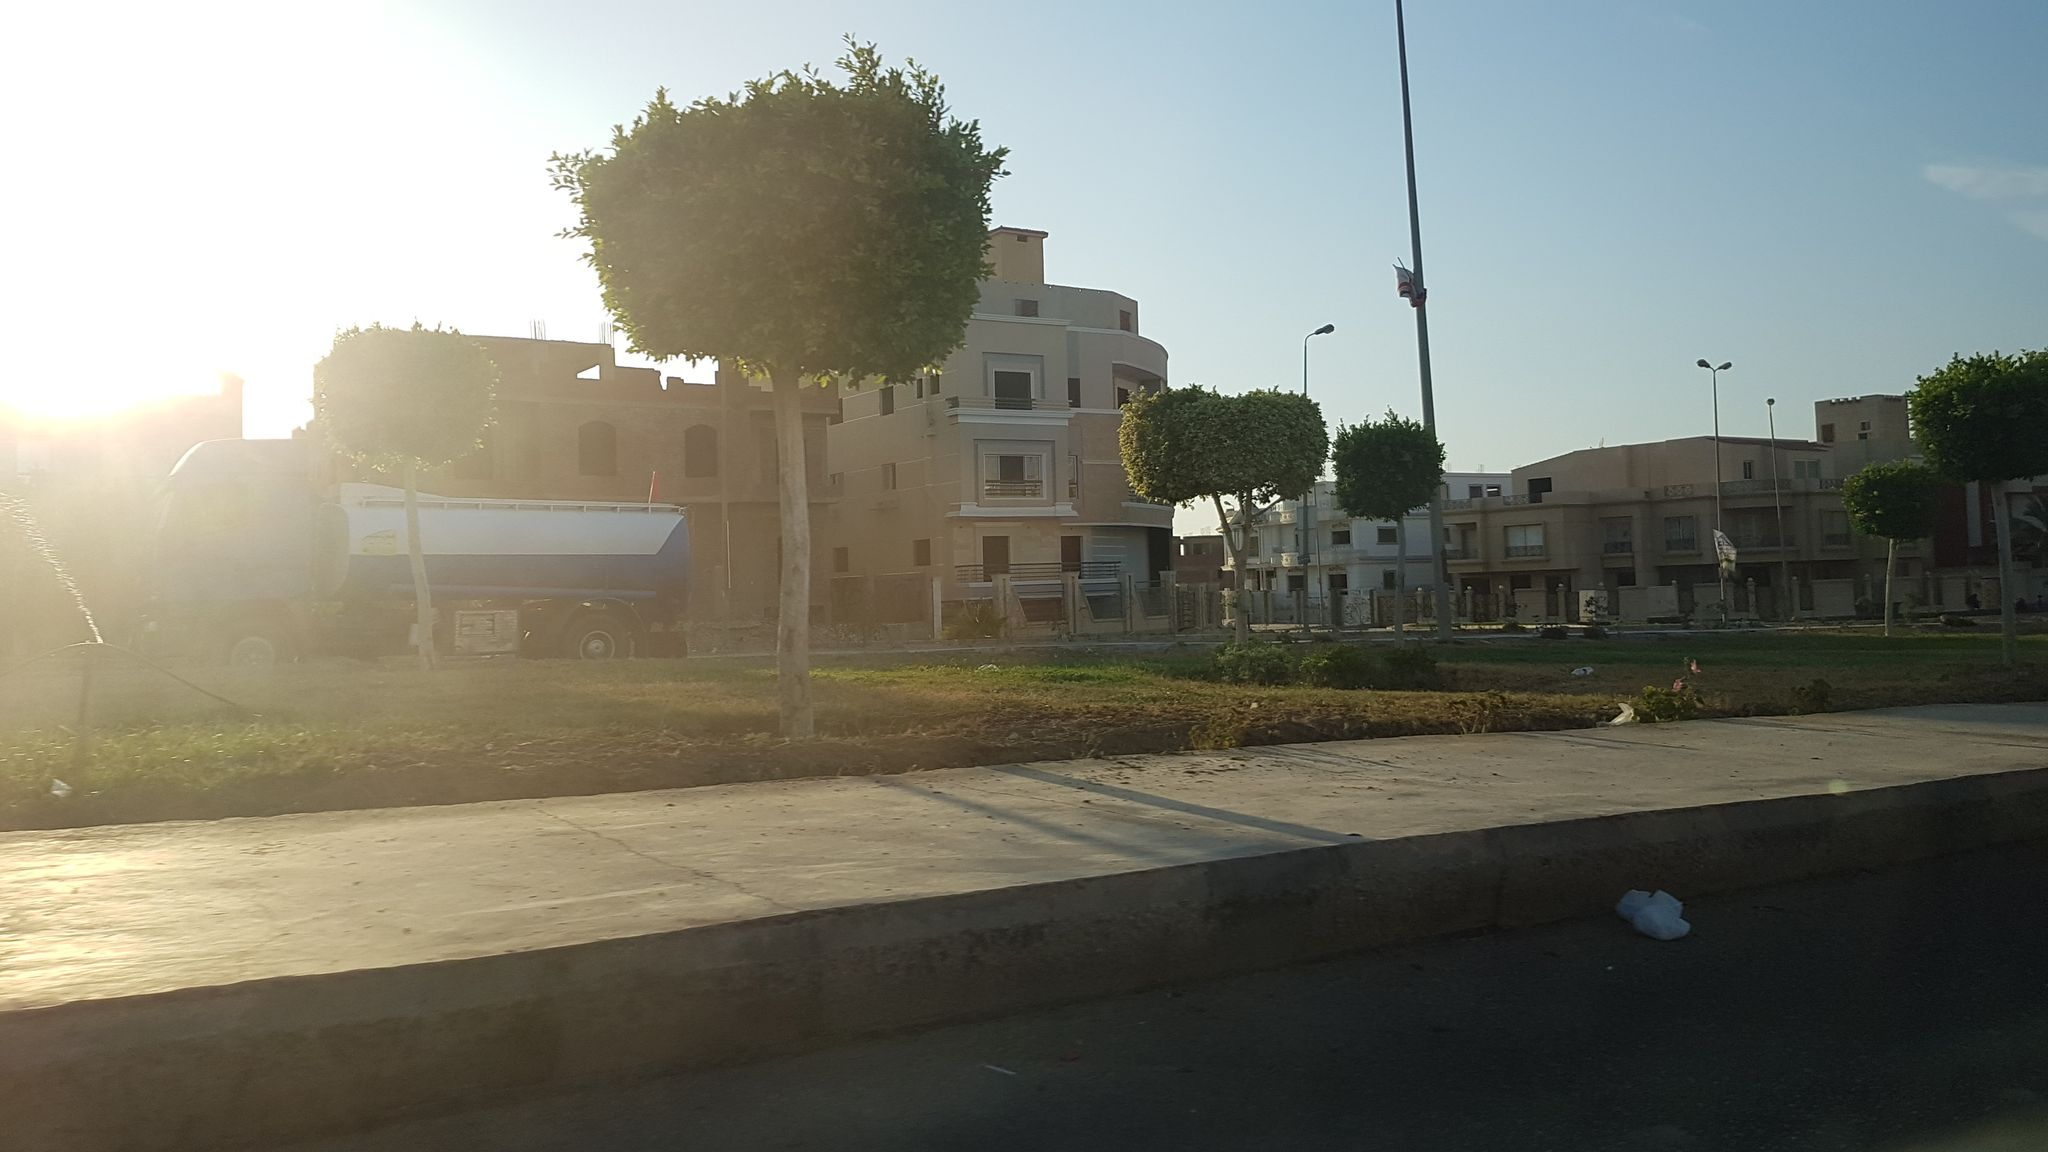truck: (148, 426, 693, 663)
